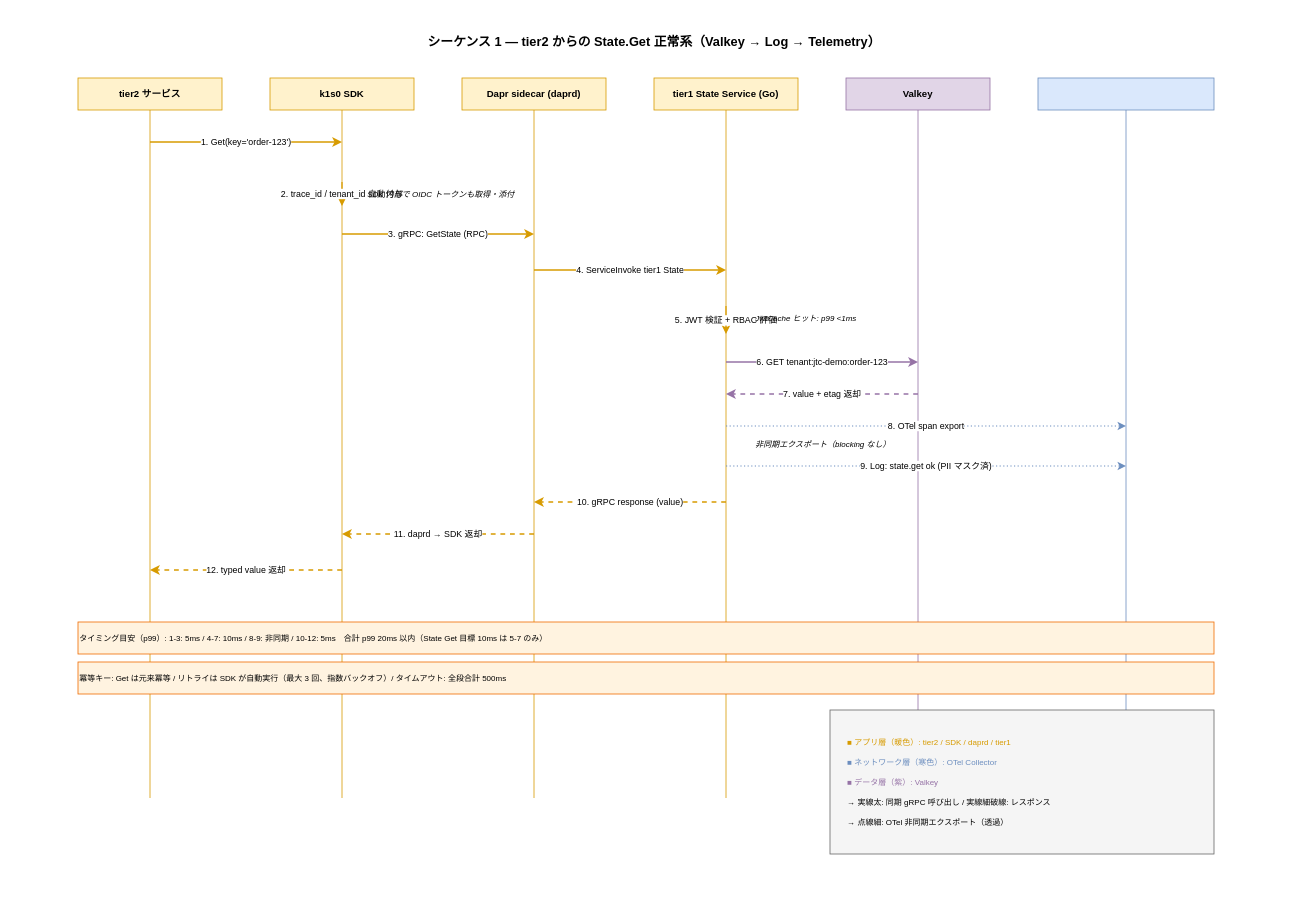
Some shapes in this 1307 by 907 pixel diagram are drawn without their labels. The box of each missing label's shape, as (x1, y1, x2, y2) in pixels:
OpenTelemetry Collector: (1037, 77, 1214, 110)
凡例: (829, 709, 1214, 854)
